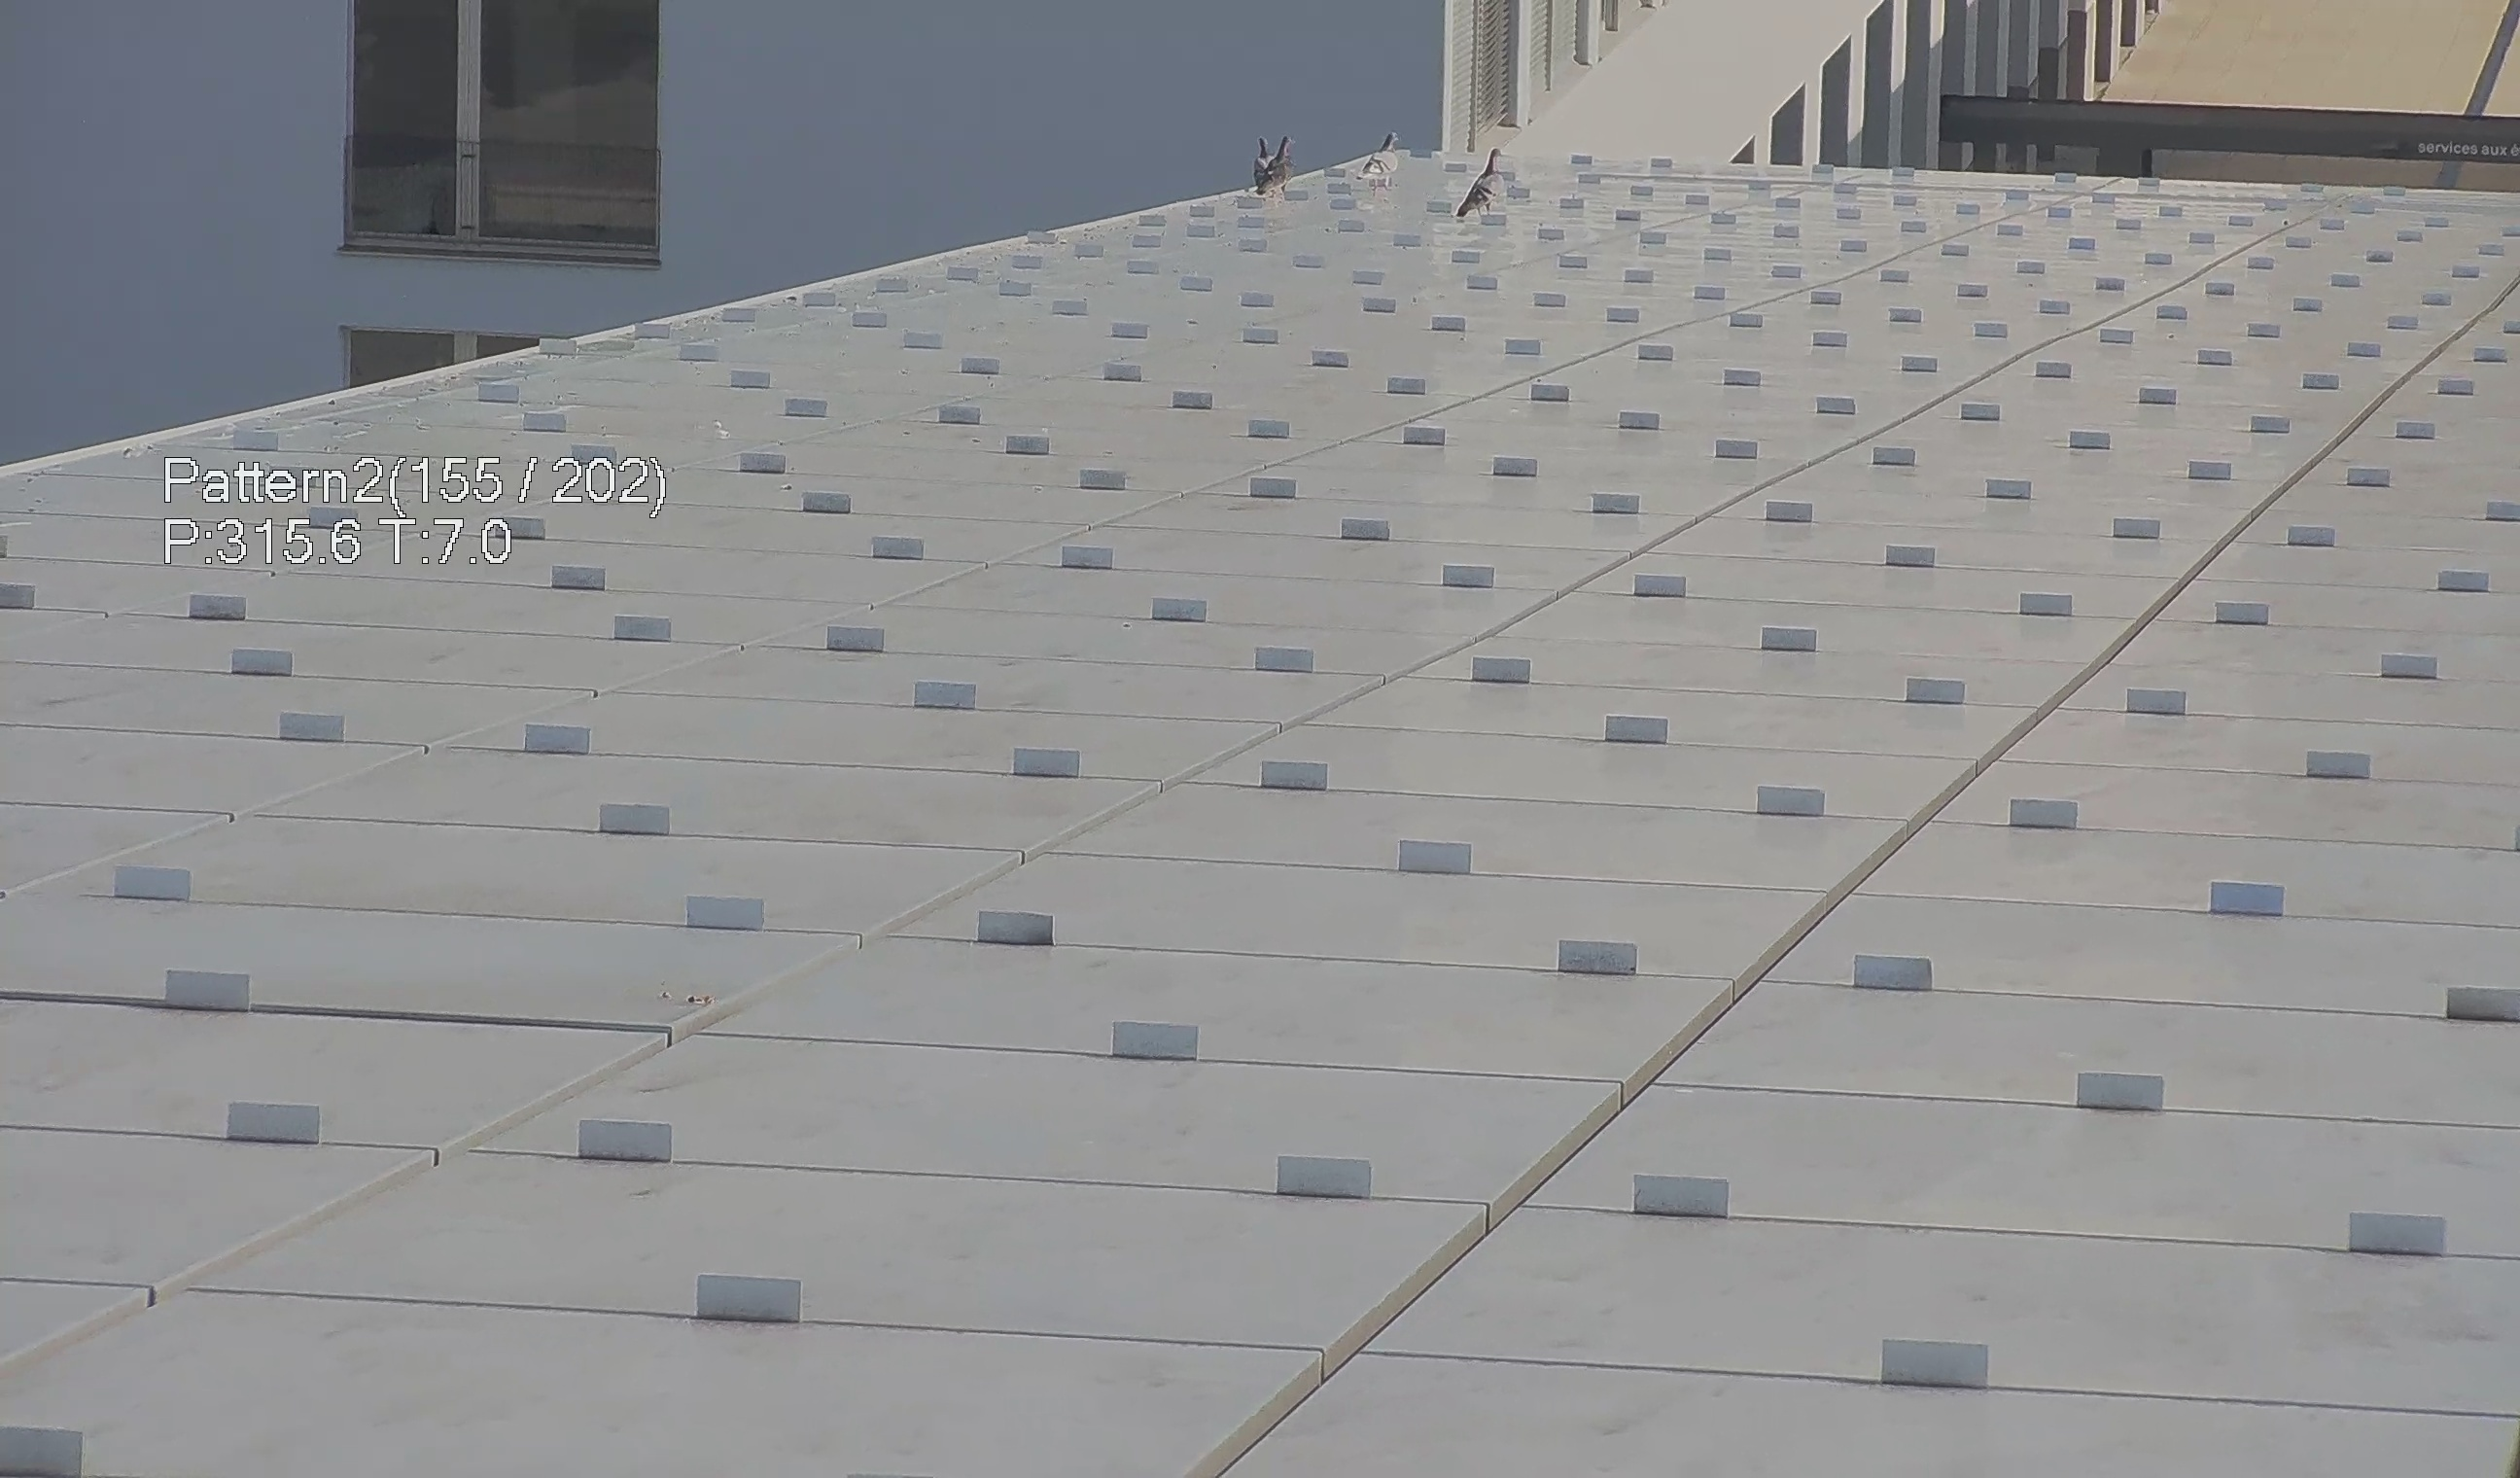Pigeon: (1444, 141, 1511, 218), (1351, 125, 1414, 204), (1263, 132, 1310, 197), (1250, 127, 1278, 192)
